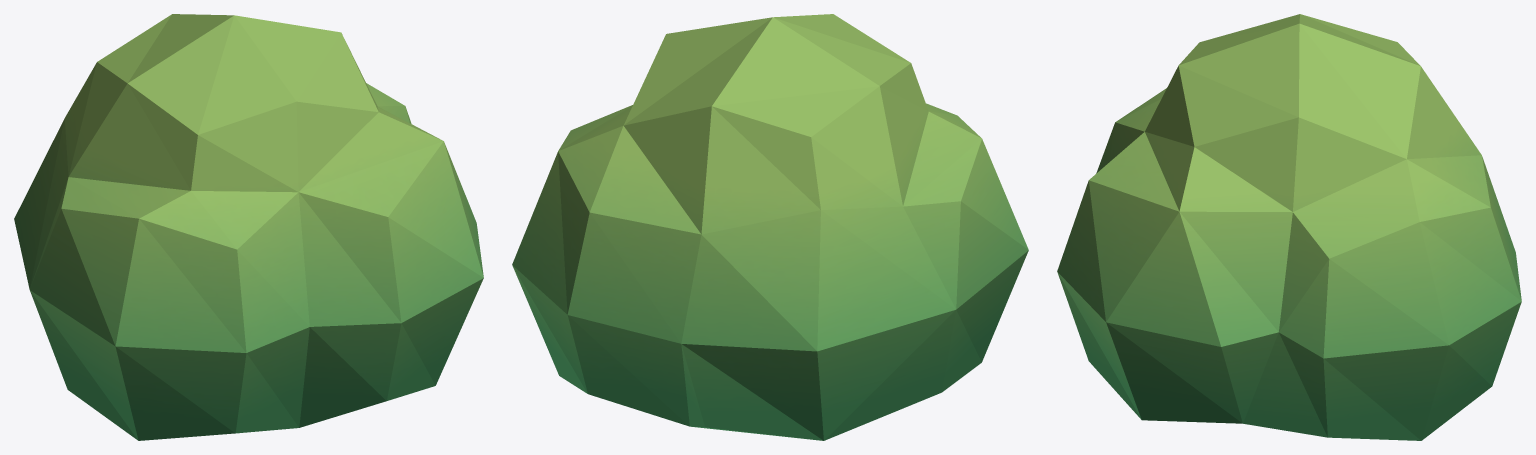
File: Bush_2.fbx
3 views of the same model, side by side, from view 1: azimuth 30°, elevation 25°; view 2: azimuth 150°, elevation 25°; view 3: azimuth 270°, elevation 25° (orthographic).
Parts seen in each view (by area): view 1: circle_bush; view 2: circle_bush; view 3: circle_bush.
Part boxes in pixels (left/top/right/bottom): circle_bush: left=14, top=14, right=483, bottom=440; circle_bush: left=512, top=14, right=1028, bottom=440; circle_bush: left=1057, top=14, right=1521, bottom=440.
Size of the model in its own units: 1.15 by 0.9608 by 1.15.
